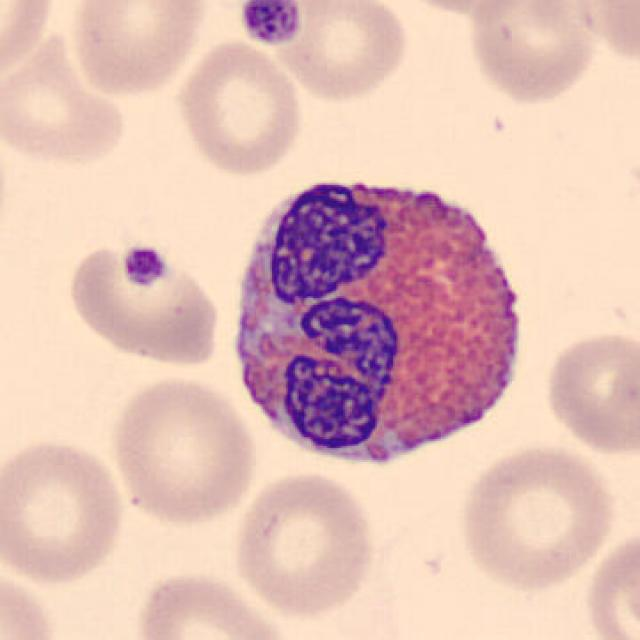Eosinophil: (217, 155, 539, 485)
Platelets: (236, 0, 306, 48), (119, 241, 169, 291)
RBC: (454, 439, 620, 592), (106, 372, 260, 529), (229, 467, 379, 619), (62, 238, 226, 370), (0, 434, 130, 587), (170, 37, 308, 178), (0, 28, 132, 173), (262, 0, 412, 104), (464, 0, 603, 106), (64, 0, 212, 99), (539, 326, 638, 458), (131, 567, 296, 640), (582, 525, 638, 640), (563, 0, 640, 65), (0, 0, 57, 86), (0, 566, 62, 640), (386, 0, 530, 16)
